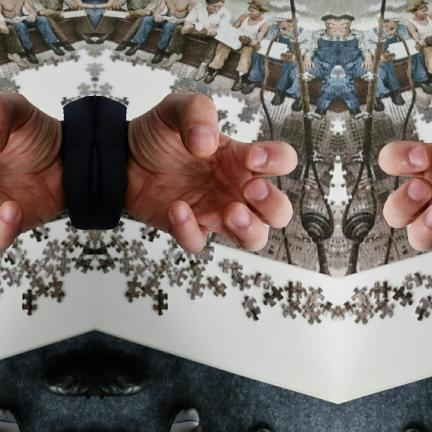Nail: (186, 126, 214, 150), (245, 180, 268, 200), (406, 180, 429, 200), (229, 206, 250, 227), (248, 147, 266, 167), (408, 147, 426, 167), (169, 206, 187, 222), (1, 206, 19, 222), (425, 207, 432, 227), (0, 130, 2, 146)
